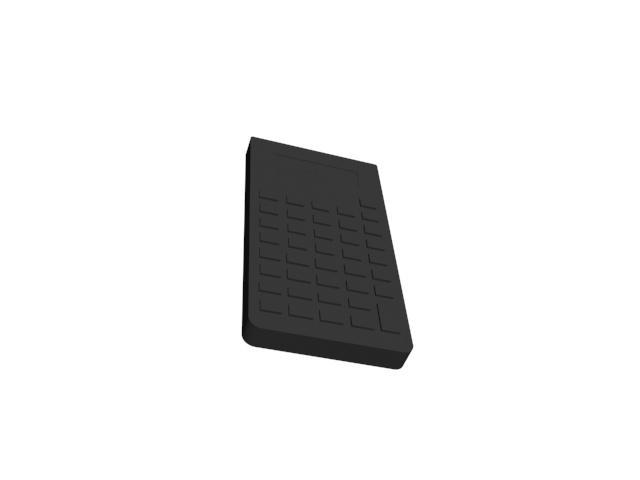calculator: (241, 137, 416, 376)
